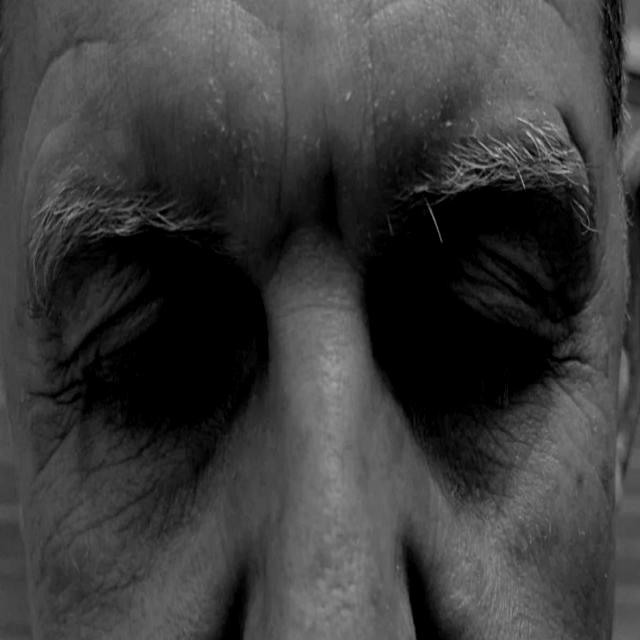real: (32, 181, 593, 517)
